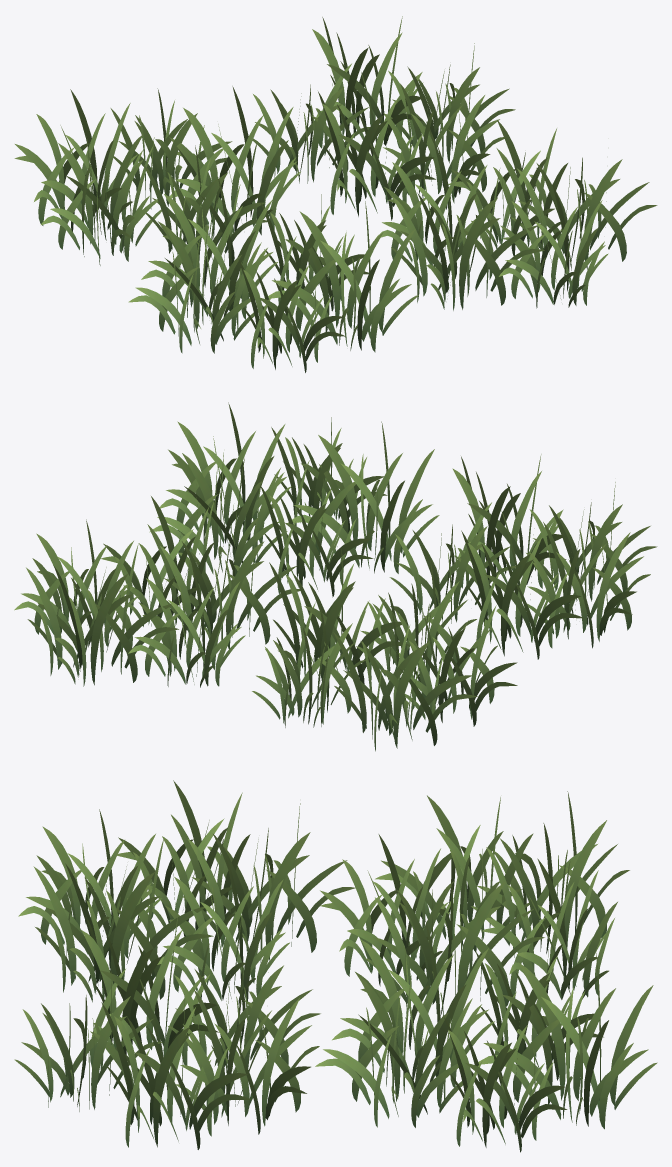
The model's file is StylizedGrass.gltf.
3 renders of one model, top to bottom at view 1: azimuth 30°, elevation 25°; view 2: azimuth 150°, elevation 25°; view 3: azimuth 270°, elevation 25°, orthographic. The views are drawn at different scales.
Parts seen in each view (by area): view 1: default9_Material_0; view 2: default9_Material_0; view 3: default9_Material_0.
Part boxes in pixels (<box>): default9_Material_0: <box>14,16,657,372</box>; default9_Material_0: <box>14,402,657,751</box>; default9_Material_0: <box>14,780,657,1152</box>.
Size of the model in its own units: 1.21 by 0.2781 by 1.16.
1 material, 1 textured.
